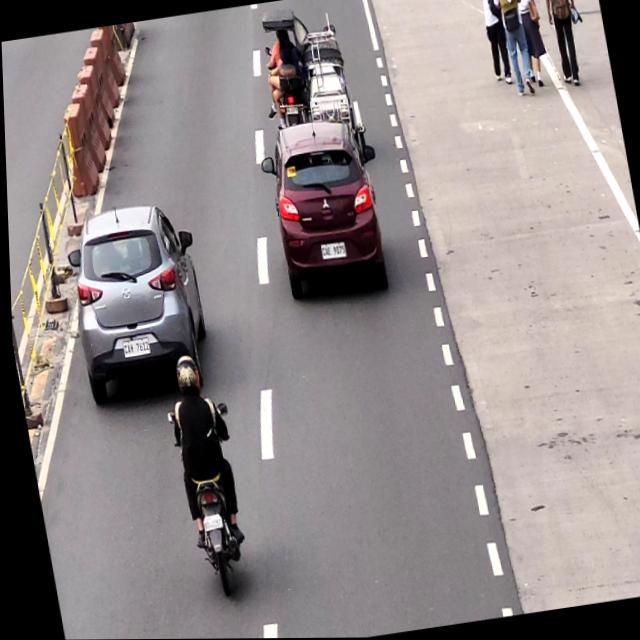Car: (55, 198, 213, 394), (255, 114, 387, 297)
License-Plate: (117, 337, 149, 358), (319, 242, 346, 261), (197, 512, 218, 529)
Motorcycle: (153, 346, 252, 607)
Tricycle: (255, 0, 363, 137)
